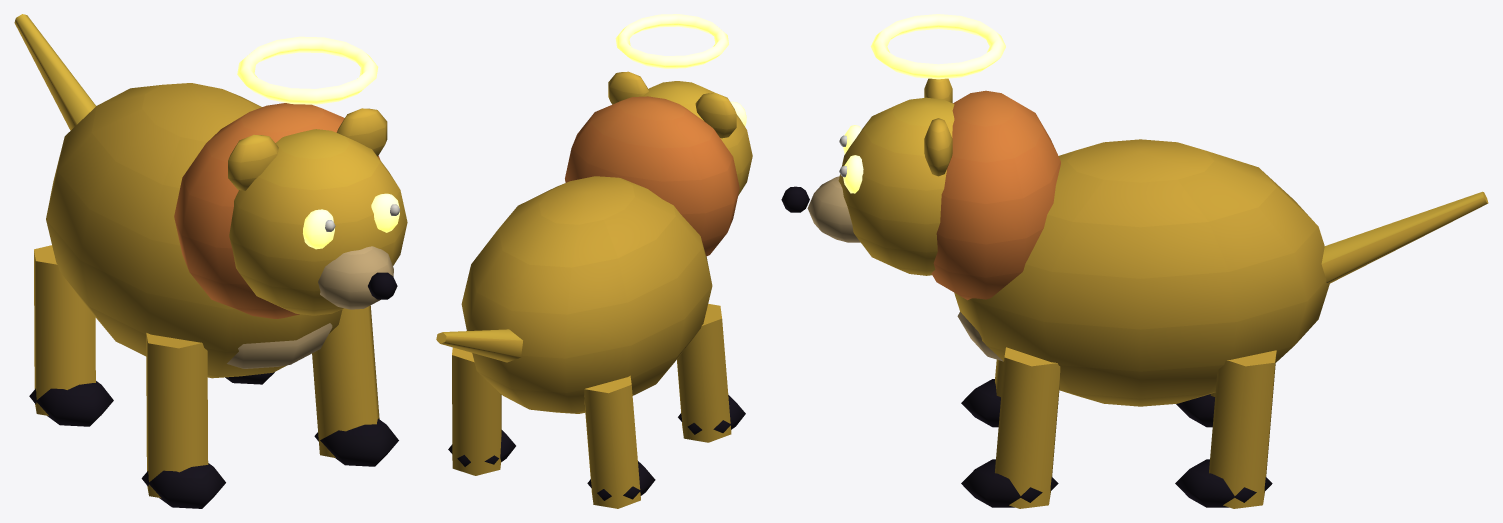
File: monster_sun_lion.glb
The picture shows the model from 3 angles, left to right: view 1: azimuth 30°, elevation 25°; view 2: azimuth 150°, elevation 25°; view 3: azimuth 270°, elevation 25°; orthographic projection. The views are drawn at different scales.
Parts seen in each view (by area): view 1: body_t0_palette, legl_t0_palette, legr_t0_palette, body_t0_glow_gold, tail_t0_palette; view 2: body_t0_palette, legl_t0_palette, legr_t0_palette, body_t0_glow_gold, tail_t0_palette; view 3: body_t0_palette, legr_t0_palette, body_t0_glow_gold, tail_t0_palette, legl_t0_palette.
Boxes of the visible parts, x1=… form: body_t0_palette: x1=46, y1=83, x2=407, y2=378; legl_t0_palette: x1=29, y1=245, x2=225, y2=508; legr_t0_palette: x1=225, y1=305, x2=398, y2=466; body_t0_glow_gold: x1=237, y1=36, x2=399, y2=249; tail_t0_palette: x1=14, y1=14, x2=95, y2=130; body_t0_palette: x1=461, y1=71, x2=752, y2=413; legl_t0_palette: x1=584, y1=304, x2=745, y2=508; legr_t0_palette: x1=448, y1=347, x2=515, y2=475; body_t0_glow_gold: x1=615, y1=14, x2=746, y2=126; tail_t0_palette: x1=436, y1=329, x2=522, y2=362; body_t0_palette: x1=781, y1=78, x2=1329, y2=406; legr_t0_palette: x1=961, y1=347, x2=1276, y2=508; body_t0_glow_gold: x1=843, y1=14, x2=1005, y2=193; tail_t0_palette: x1=1321, y1=191, x2=1488, y2=283; legl_t0_palette: x1=961, y1=359, x2=1215, y2=427.
Size of the model in its own units: 0.225 by 0.394 by 0.5945.
